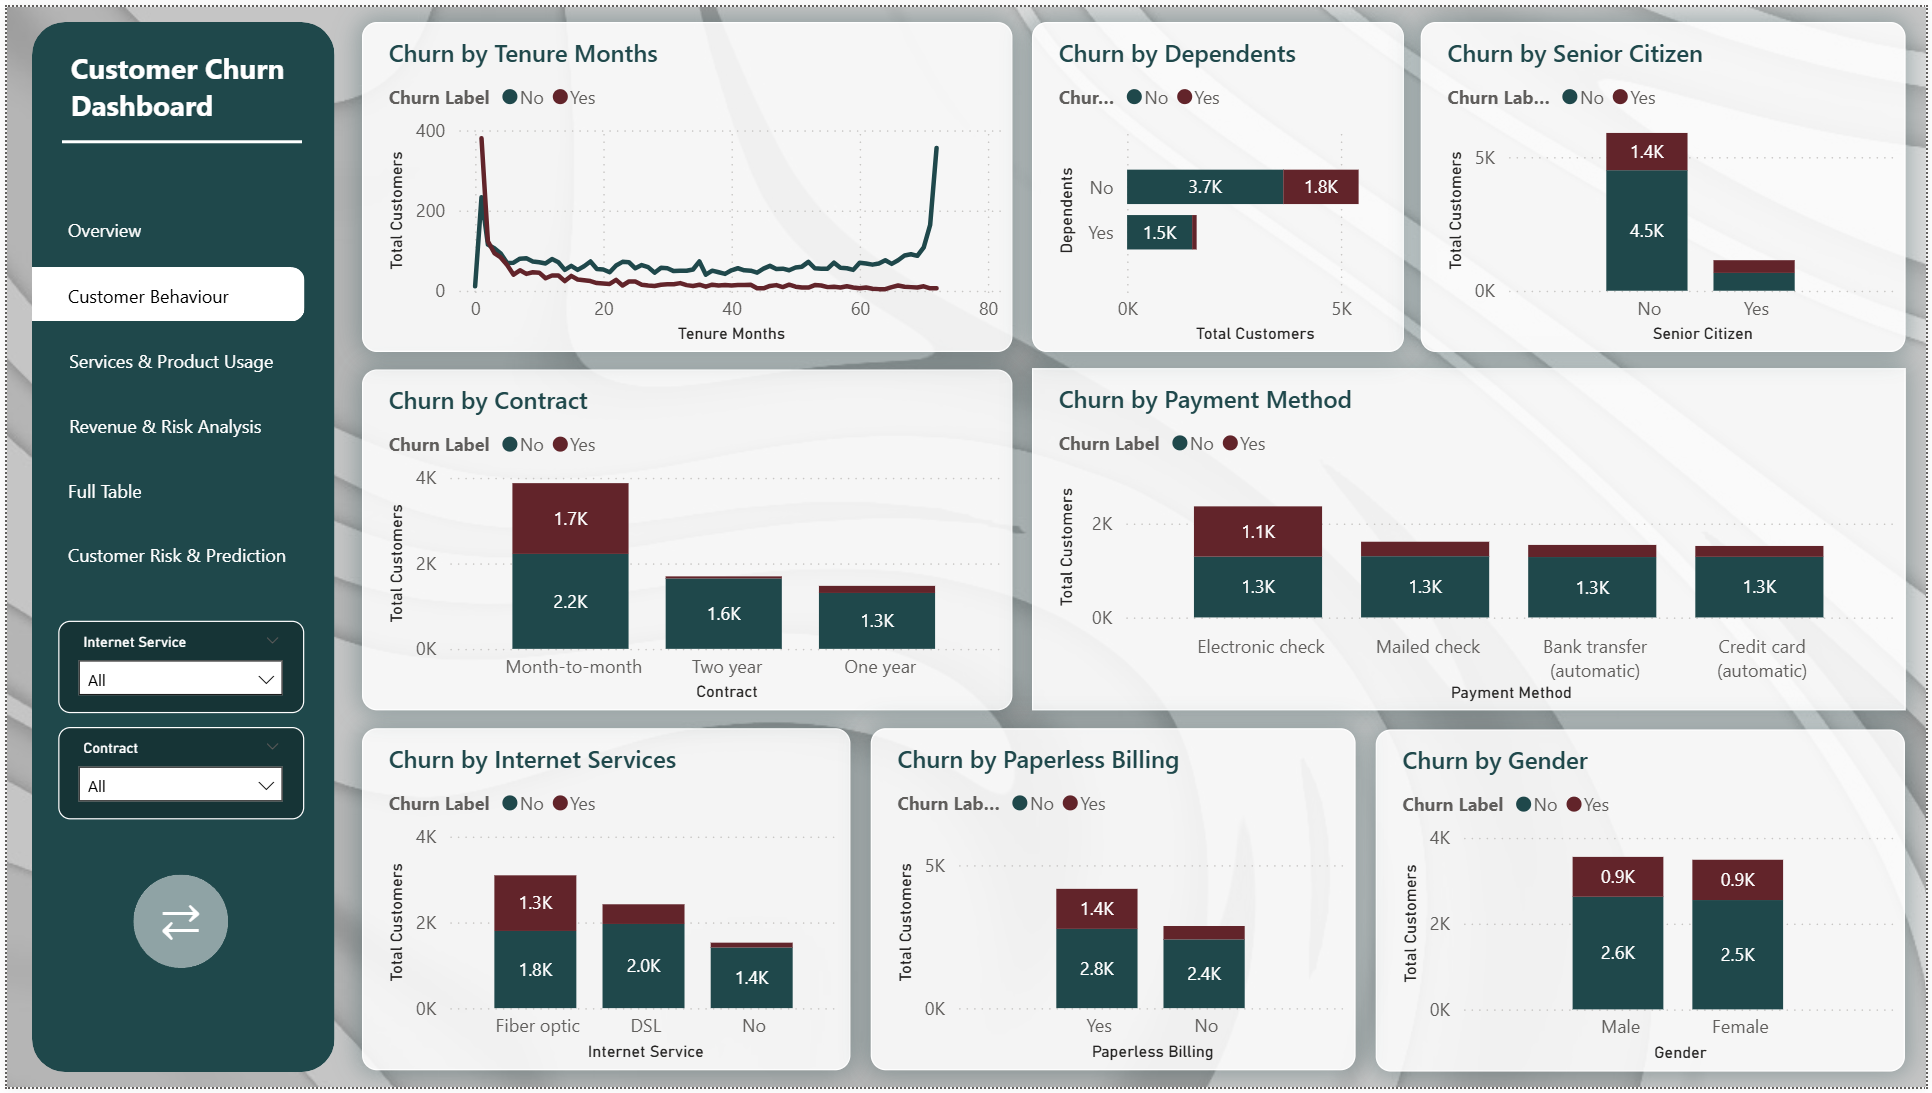

Layout of this report page (visuals, bound fields, positions):
{"tool":"powerbi","page":{"name":"Customer Behaviour","canvas":[1280,720],"ordinal":1},"visuals":[{"type":"shape","box":[16.8,9.7,201.8,700],"z":0},{"type":"textbox","box":[37.2,23,161.1,68.1],"z":1000},{"type":"columnChart","title":"Churn by Internet Services","fields":{"Category":["Dataset.Internet Service"],"Series":["Dataset.Churn Label"],"Y":["Dataset.Total Customers"]},"box":[236.5,481,325.4,227.8],"z":2000},{"type":"columnChart","title":"Churn by Contract","fields":{"Category":["Dataset.Contract"],"Series":["Dataset.Churn Label"],"Y":["Dataset.Total Customers"]},"box":[236.3,241.6,433.6,227.4],"z":3000},{"type":"lineChart","title":"Churn by Tenure Months","fields":{"Category":["Dataset.Tenure Months"],"Series":["Dataset.Churn Label"],"Y":["Dataset.Total Customers"]},"box":[236.3,9.7,433.6,220.4],"z":4000},{"type":"columnChart","title":"Churn by Payment Method","fields":{"Category":["Dataset.Payment Method"],"Series":["Dataset.Churn Label"],"Y":["Dataset.Total Customers"]},"box":[683.2,240.7,582.3,228.3],"z":5000},{"type":"columnChart","title":"Churn by Gender","fields":{"Category":["Dataset.Gender"],"Series":["Dataset.Churn Label"],"Y":["Dataset.Total Customers"]},"box":[912.7,481.7,353.2,227.8],"z":6000},{"type":"barChart","title":"Churn by Dependents","fields":{"Category":["Dataset.Dependents"],"Series":["Dataset.Churn Label"],"Y":["Dataset.Total Customers"]},"box":[683.2,9.7,247.8,220.4],"z":7000},{"type":"columnChart","title":"Churn by Dependents","fields":{"Category":["Dataset.Paperless Billing"],"Series":["Dataset.Churn Label"],"Y":["Dataset.Total Customers"]},"box":[576.2,481,323,227.8],"z":8000},{"type":"columnChart","title":"Churn by Senior Citizen","fields":{"Category":["Dataset.Senior Citizen"],"Series":["Dataset.Churn Label"],"Y":["Dataset.Total Customers"]},"box":[942.5,9.7,323,220.4],"z":9000}]}

Visuals, with their boxes in screenshot pixels (x1, y1, x2, y2):
shape: 30, 19, 330, 1061
textbox: 60, 39, 300, 141
"Churn by Internet Services" columnChart: 357, 721, 841, 1060
"Churn by Contract" columnChart: 357, 365, 1002, 703
"Churn by Tenure Months" lineChart: 357, 19, 1002, 348
"Churn by Payment Method" columnChart: 1022, 363, 1889, 703
"Churn by Gender" columnChart: 1364, 722, 1889, 1061
"Churn by Dependents" barChart: 1022, 19, 1391, 348
"Churn by Dependents" columnChart: 863, 721, 1343, 1060
"Churn by Senior Citizen" columnChart: 1408, 19, 1889, 348
